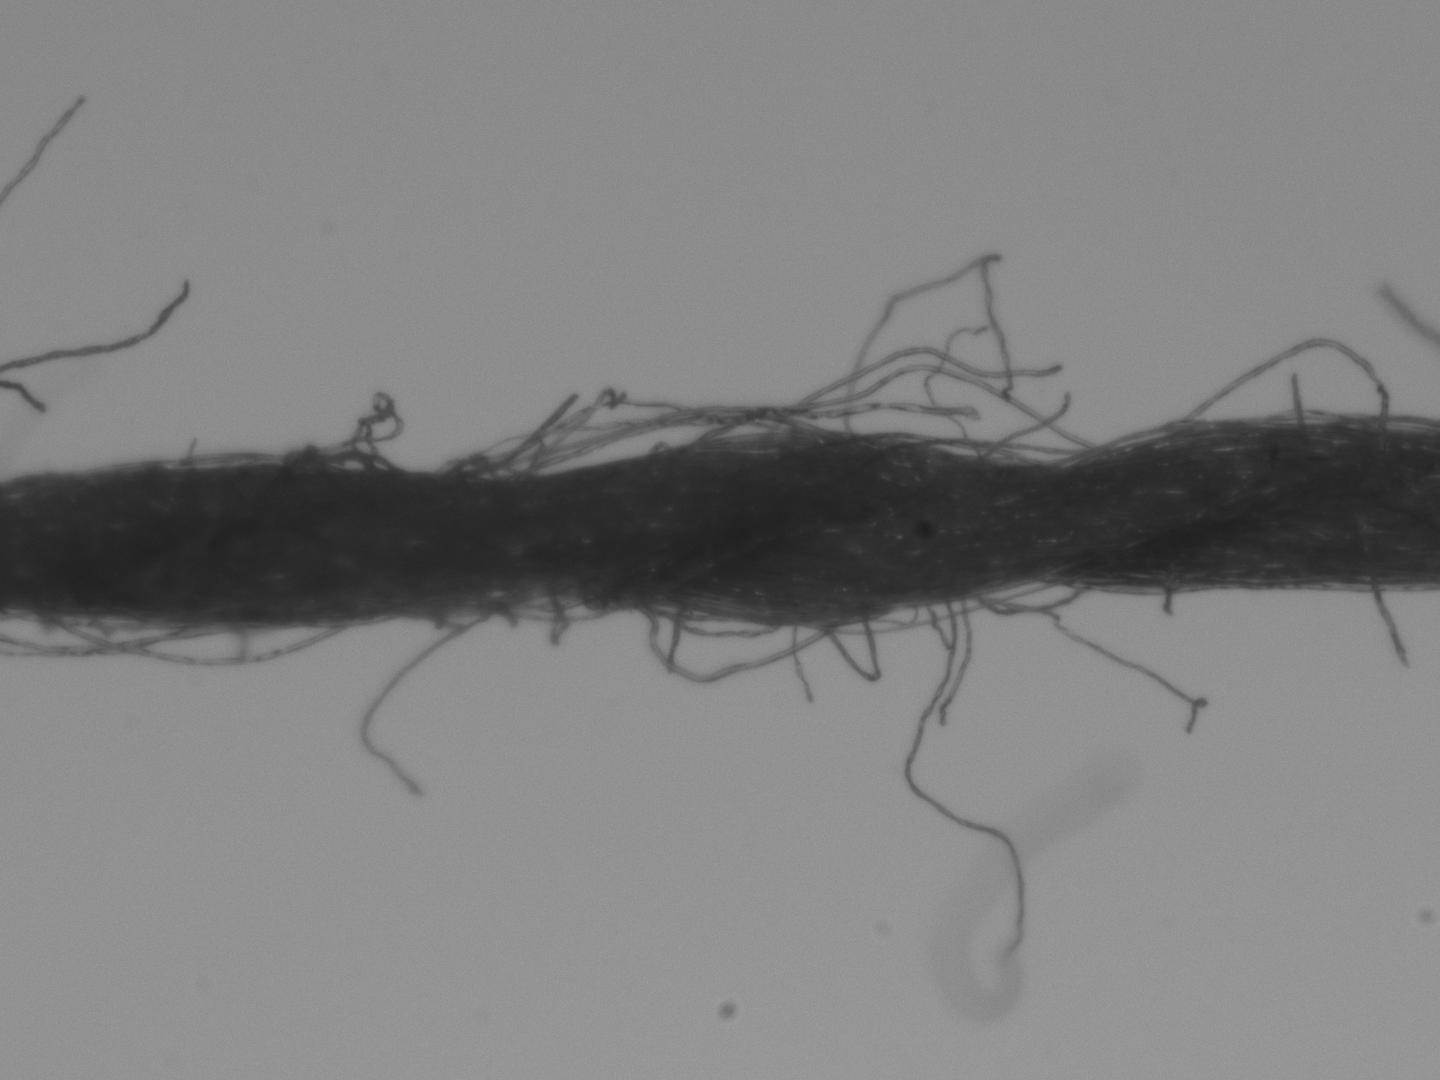loop_fiber: (502, 399, 802, 482), (1185, 334, 1389, 428), (43, 613, 338, 666), (637, 602, 813, 683), (925, 431, 1066, 463), (968, 583, 1079, 617), (825, 611, 880, 674), (493, 597, 595, 622), (294, 449, 398, 473)
protruding_fiber: (901, 600, 1023, 969), (361, 613, 499, 794), (979, 396, 1073, 467), (1366, 590, 1414, 668), (1290, 373, 1307, 422)
